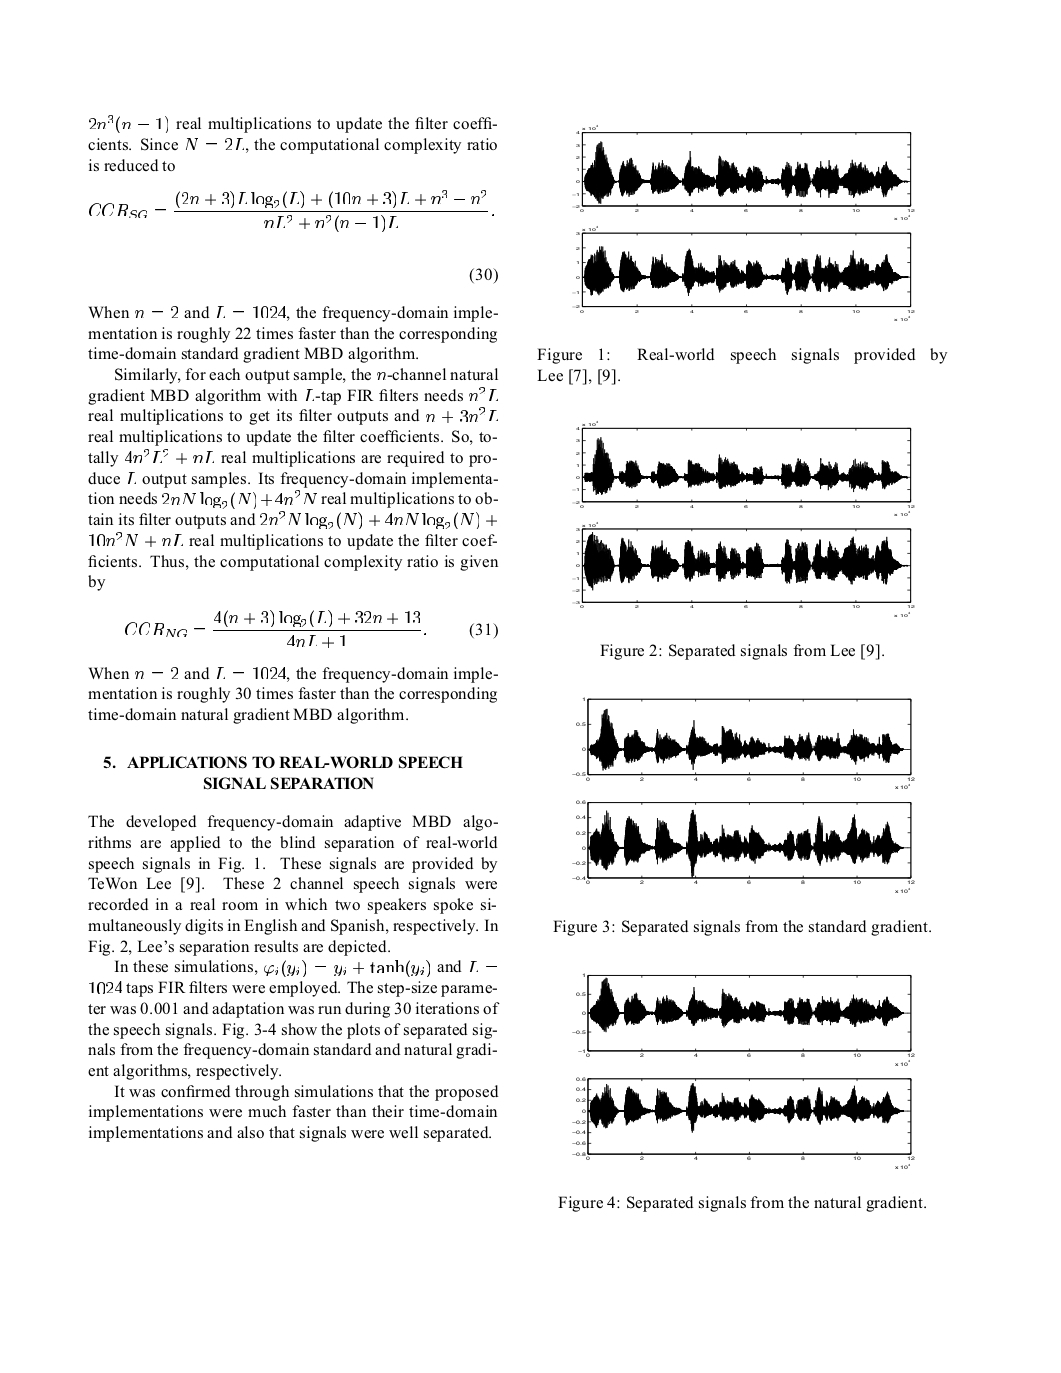figure: (572, 124, 914, 220), (572, 225, 914, 313), (572, 420, 914, 508), (572, 520, 914, 608), (572, 697, 914, 781), (572, 799, 914, 884), (572, 972, 914, 1056), (572, 1075, 914, 1160)
formula: (89, 189, 493, 232), (125, 608, 497, 647)
